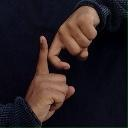hand: (24, 35, 75, 122), (47, 5, 100, 70)
